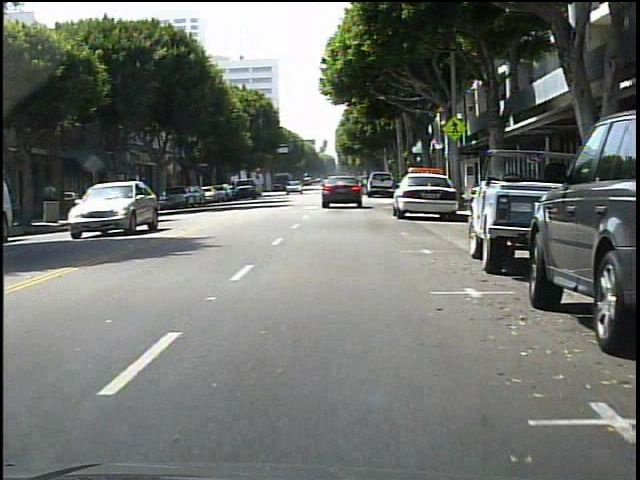person: (42, 179, 62, 223)
